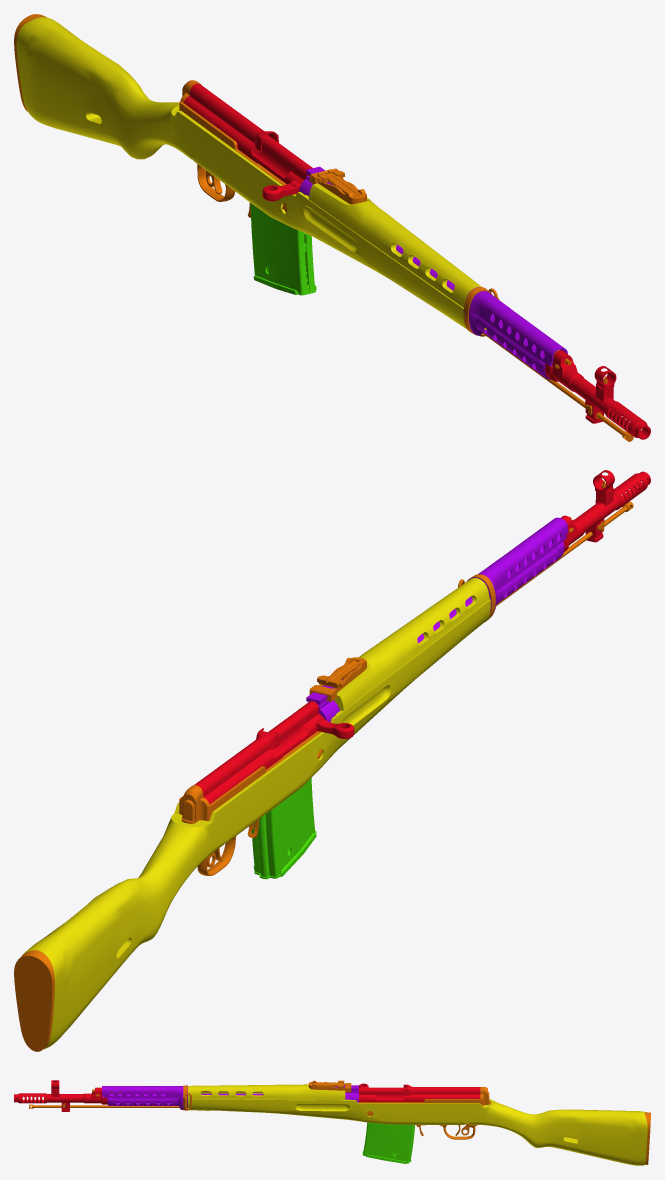
The model's file is marmo.fbx.
The picture shows the model from 3 angles, top to bottom: view 1: azimuth 30°, elevation 25°; view 2: azimuth 150°, elevation 25°; view 3: azimuth 270°, elevation 25°; orthographic projection. The views are drawn at different scales.
Visible parts, largest first — view 1: wood_1_low.001, wood_1_low.006, m1_low.001, wood_1_low.003, wood_1_low.004, ch_low.001, wood_1_low.002; view 2: wood_1_low.001, wood_1_low.006, m1_low.001, wood_1_low.003, wood_1_low.004, ch_low.001, wood_1_low.002; view 3: wood_1_low.001, wood_1_low.006, m1_low.001, wood_1_low.004, wood_1_low.003, ch_low.001, wood_1_low.002, wood_1_low.007.
Boxes of the visible parts, x1,y1,x2,y2 form: wood_1_low.001: (14,14,650,441); wood_1_low.006: (308,183,481,307); m1_low.001: (250,203,316,295); wood_1_low.003: (463,287,567,366); wood_1_low.004: (183,83,278,153); ch_low.001: (238,134,312,201); wood_1_low.002: (463,310,551,379); wood_1_low.001: (14,471,650,1051); wood_1_low.006: (320,578,489,710); m1_low.001: (251,778,316,879); wood_1_low.003: (468,517,568,600); wood_1_low.004: (194,728,280,804); ch_low.001: (263,701,354,769); wood_1_low.002: (490,542,564,613); wood_1_low.001: (14,1080,650,1165); wood_1_low.006: (188,1084,345,1100); m1_low.001: (362,1122,414,1163); wood_1_low.004: (403,1084,480,1102); wood_1_low.003: (102,1086,187,1099); ch_low.001: (359,1083,406,1102); wood_1_low.002: (107,1098,187,1109); wood_1_low.007: (183,1085,191,1110).
Bounding box in the file's own units: 7.48 × 18.19 × 124.
